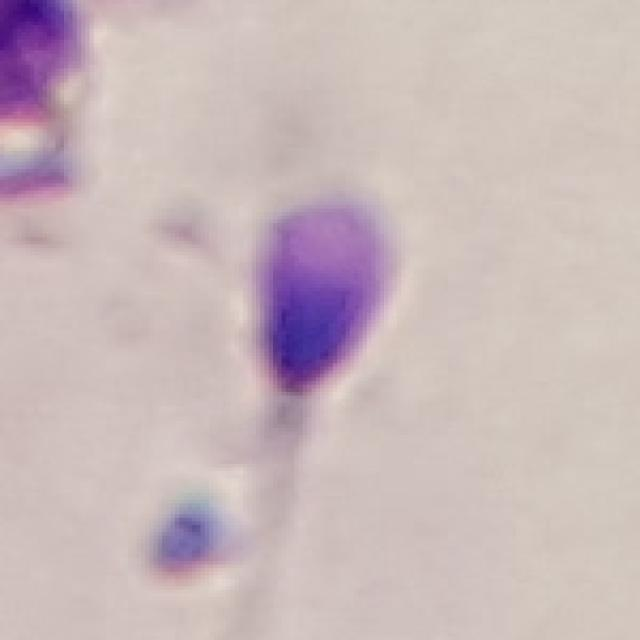normal sperm: (227, 191, 412, 566)
